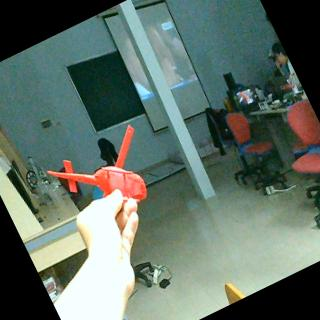Helicopter: (41, 122, 162, 232)
